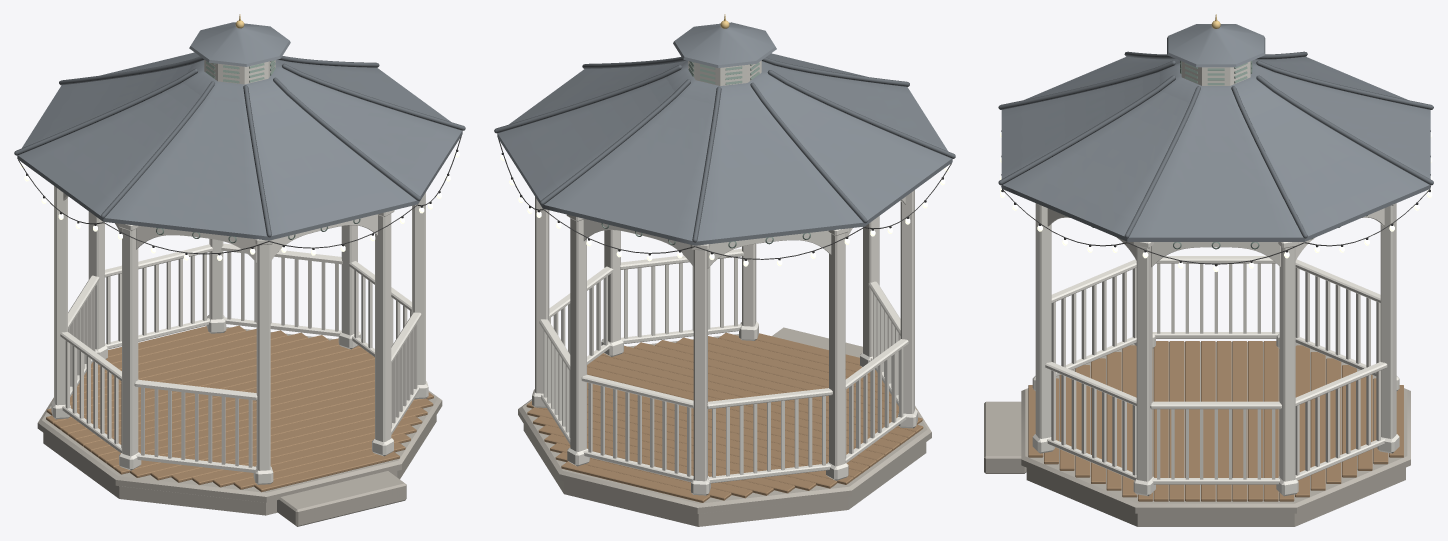
Rendered from gazebo.glb.
The picture shows the model from 3 angles, left to right: view 1: azimuth 30°, elevation 25°; view 2: azimuth 150°, elevation 25°; view 3: azimuth 270°, elevation 25°; orthographic projection. The views are drawn at different scales.
Parts seen in each view (by area): view 1: gazebo; view 2: gazebo; view 3: gazebo.
Boxes of the visible parts, left/top/right/bottom form: gazebo: left=14, top=14, right=465, bottom=526; gazebo: left=494, top=14, right=955, bottom=526; gazebo: left=984, top=14, right=1433, bottom=526.
Bounding box in the file's own units: 3.28 × 3.6 × 3.39.
